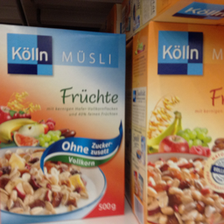cereal: (1, 22, 128, 224), (130, 21, 224, 218)
